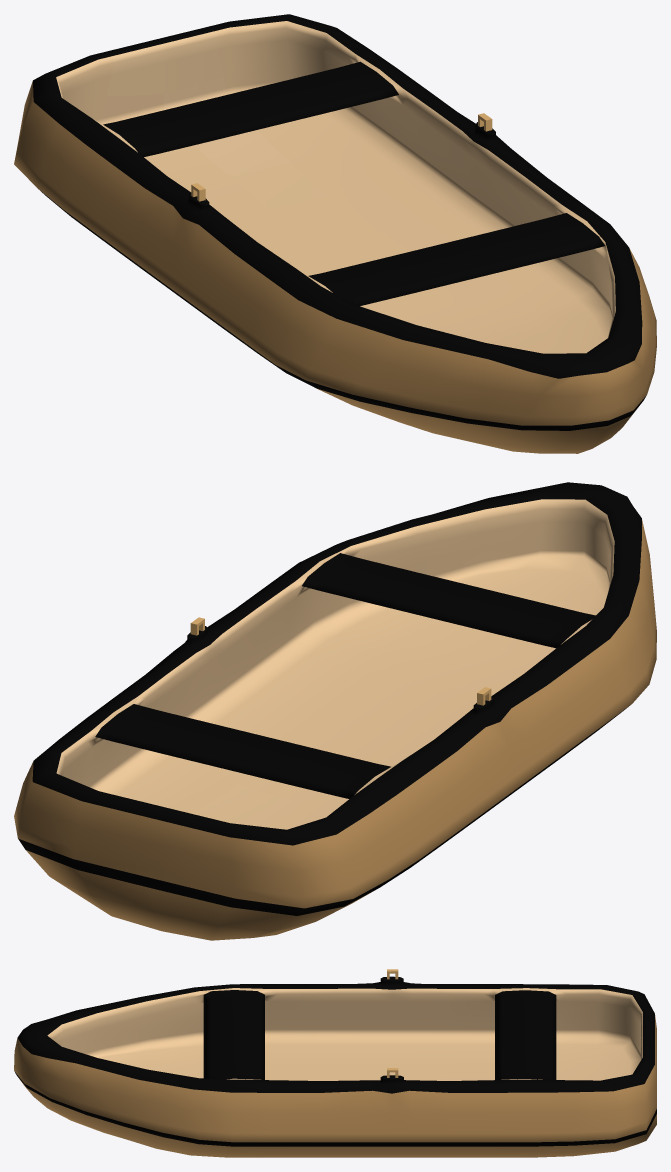
File: Canoa.fbx
3 renders of one model, top to bottom at view 1: azimuth 30°, elevation 25°; view 2: azimuth 150°, elevation 25°; view 3: azimuth 270°, elevation 25°, orthographic. The views are drawn at different scales.
Visible parts, largest first — view 1: Canoa; view 2: Canoa; view 3: Canoa.
Boxes of the visible parts, x1,y1,x2,y2 form: Canoa: (14, 14, 656, 453); Canoa: (14, 482, 656, 940); Canoa: (14, 969, 656, 1157).
Size of the model in its own units: 2.94 by 1.34 by 6.49.
